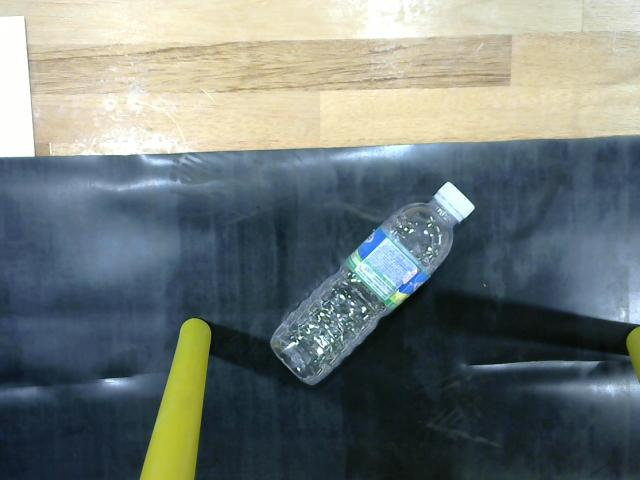bottle: (254, 171, 486, 396)
